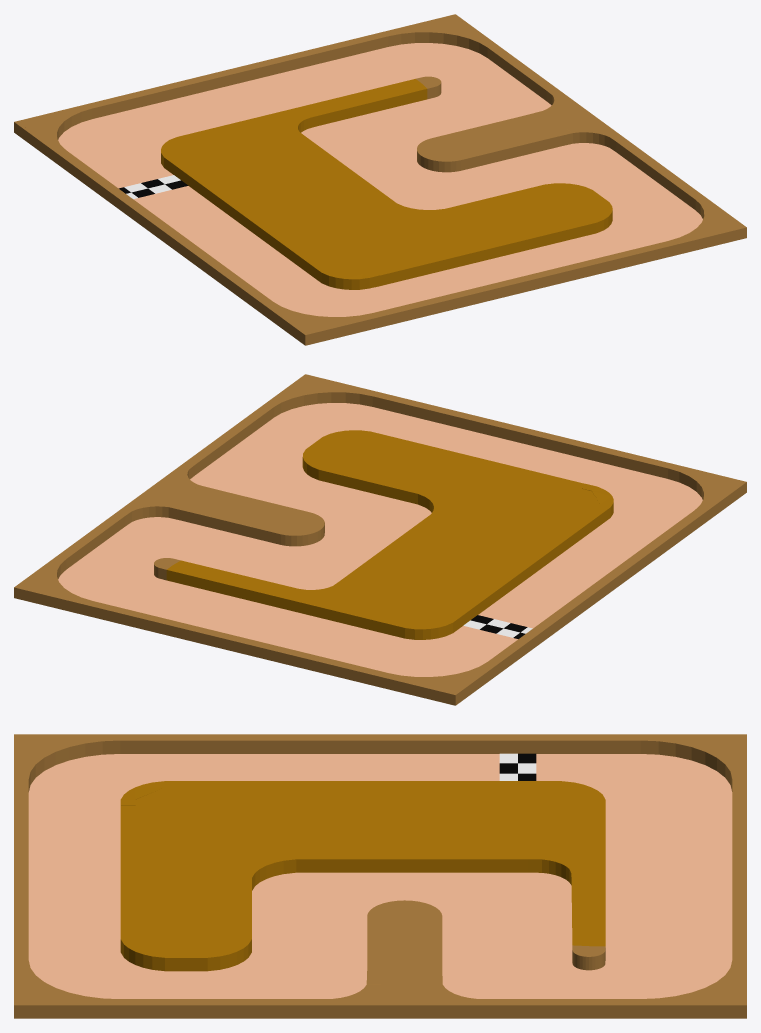
The model's file is Pista_VF_Modificada.fbx.
3 views of the same model, one above another, from view 1: azimuth 30°, elevation 25°; view 2: azimuth 150°, elevation 25°; view 3: azimuth 270°, elevation 25° (orthographic). The views are drawn at different scales.
Visible parts, largest first — view 1: Plane.050, CurvasInts, PE3, CurvaExtra, CantosExts.002, meta; view 2: Plane.050, CurvasInts, PE3, CurvaExtra, CantosExts.002, meta; view 3: Plane.050, CurvasInts, PE3, CurvaExtra, CantosExts.002, meta.
Boxes of the visible parts, x1,y1,x2,y2 form: Plane.050: (58, 43, 702, 316); CurvasInts: (161, 76, 612, 289); PE3: (14, 14, 746, 345); CurvaExtra: (417, 88, 616, 172); CantosExts.002: (16, 18, 739, 328); meta: (119, 175, 188, 199); Plane.050: (58, 403, 702, 676); CurvasInts: (154, 430, 613, 639); PE3: (14, 374, 746, 705); CurvaExtra: (115, 465, 324, 546); CantosExts.002: (26, 375, 730, 693); meta: (463, 615, 532, 638); Plane.050: (28, 754, 732, 998); CurvasInts: (120, 781, 605, 971); PE3: (14, 734, 746, 1018); CurvaExtra: (317, 900, 492, 1018); CantosExts.002: (22, 735, 744, 1003); meta: (499, 753, 536, 780).
Bounding box in the file's own units: 20846 × 490 × 23824.
